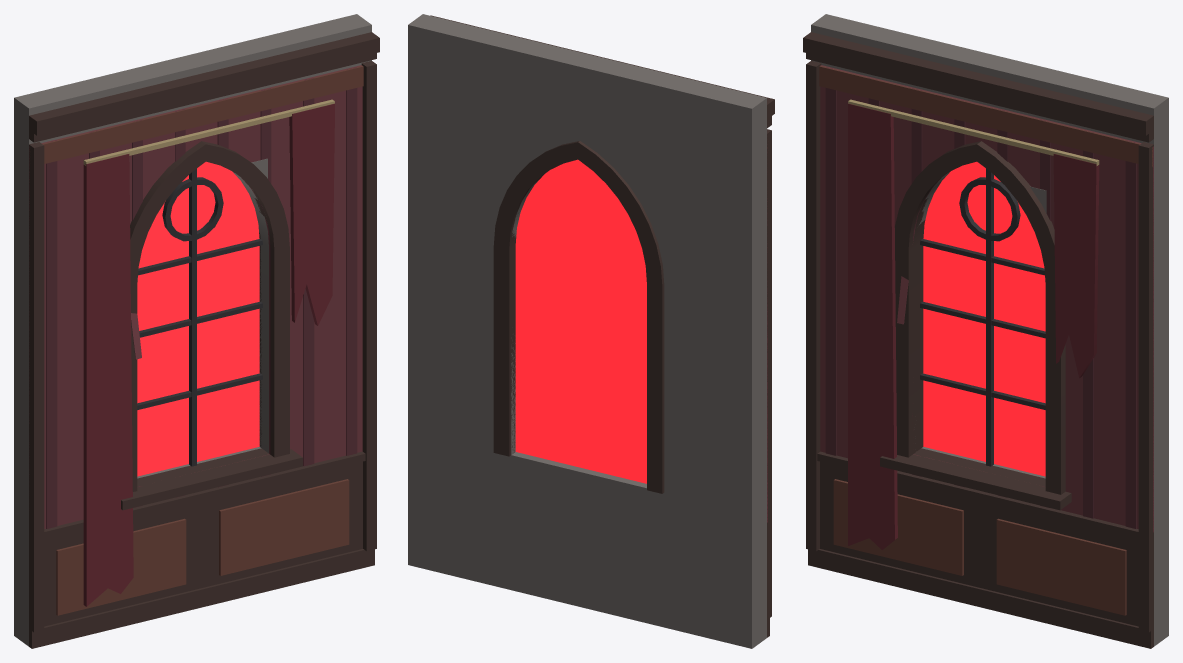
File: wall_window.glb
3 renders of one model, left to right at view 1: azimuth 30°, elevation 25°; view 2: azimuth 150°, elevation 25°; view 3: azimuth 330°, elevation 25°, orthographic.
Visible parts, largest first — view 1: WallWindow; view 2: WallWindow; view 3: WallWindow.
Boxes of the visible parts, bbox=[...] form: WallWindow: bbox=[14, 14, 379, 648]; WallWindow: bbox=[408, 14, 774, 648]; WallWindow: bbox=[803, 14, 1168, 648].
Size of the model in its own units: 4 by 6 by 0.59.
